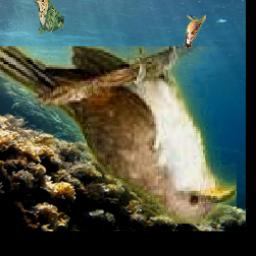Cuckoo: (0, 46, 238, 224)
Sparrow: (36, 0, 65, 35), (184, 15, 207, 48)
